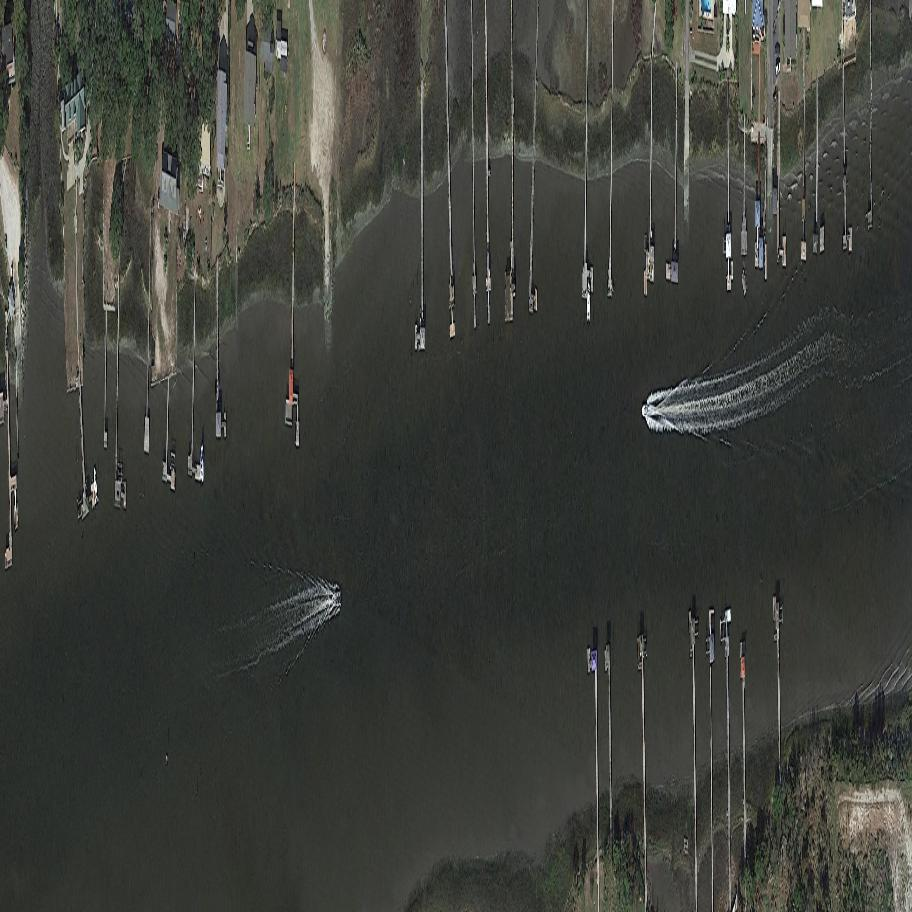ship: (93, 464, 99, 505), (199, 441, 204, 485), (587, 276, 591, 322), (335, 587, 342, 610), (641, 403, 648, 420)
small-vehicle: (772, 58, 783, 78)
